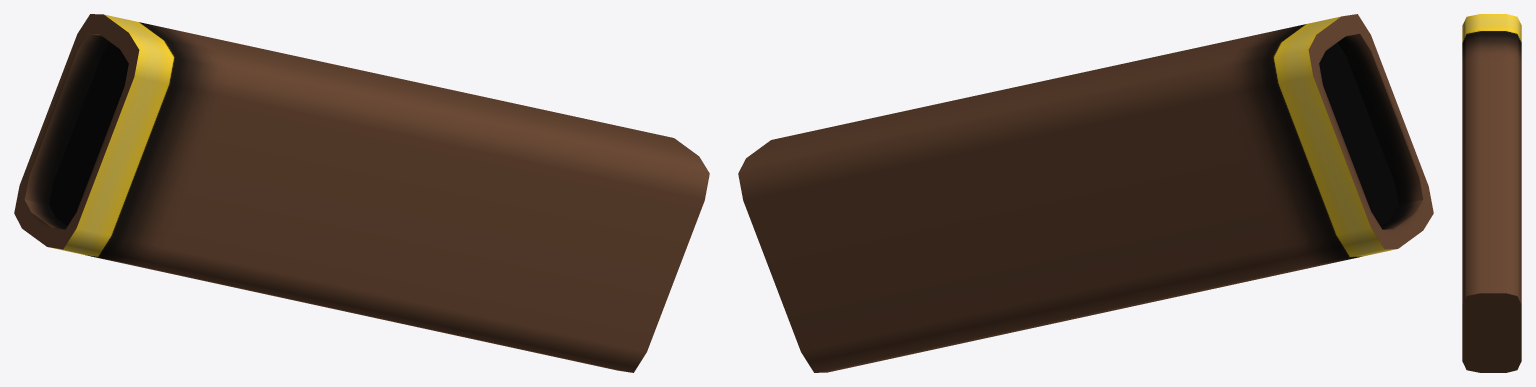
File: guyQuiver.fbx
3 views of the same model, side by side, from view 1: azimuth 30°, elevation 25°; view 2: azimuth 150°, elevation 25°; view 3: azimuth 270°, elevation 25° (orthographic). The views are drawn at different scales.
Visible parts, largest first — view 1: pCube1; view 2: pCube1; view 3: pCube1.
Part boxes in pixels (x1,y1,x2,y2): pCube1: [14, 14, 709, 372]; pCube1: [738, 14, 1433, 372]; pCube1: [1462, 14, 1521, 372].
Bounding box in the file's own units: 0.6377 × 0.427 × 0.0971.
